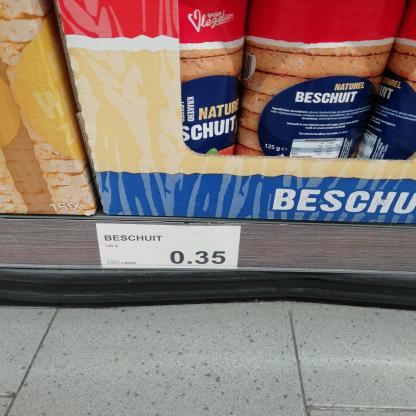prtg: (97, 224, 242, 270)
